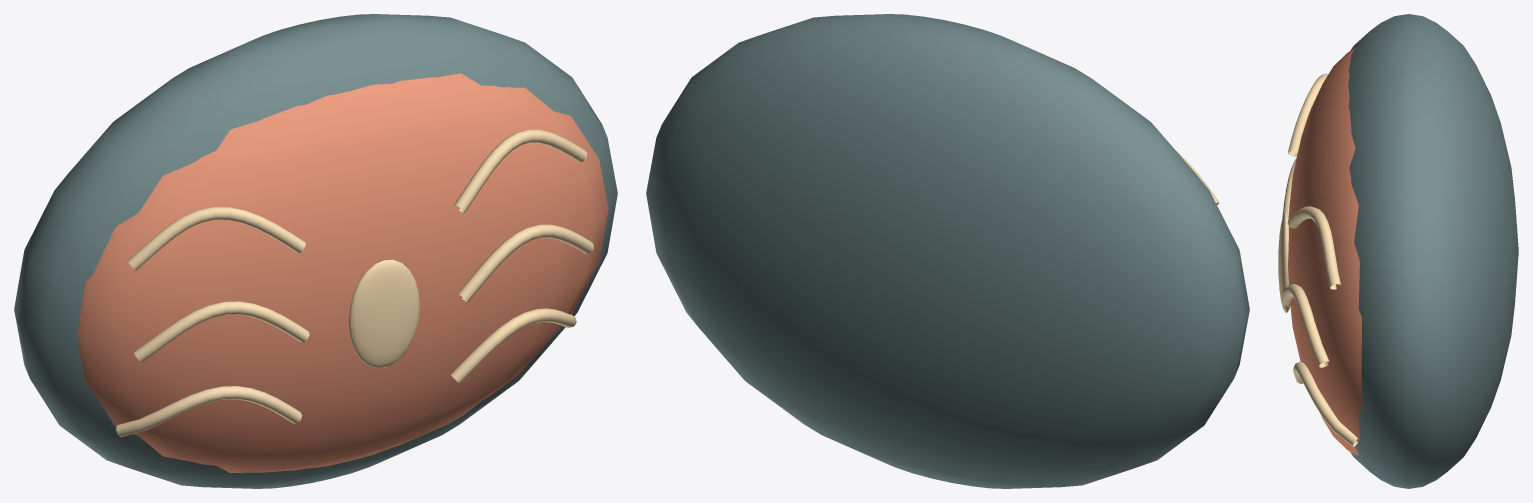
The model's file is steak.glb.
3 renders of one model, left to right at view 1: azimuth 30°, elevation 25°; view 2: azimuth 150°, elevation 25°; view 3: azimuth 270°, elevation 25°, orthographic. The views are drawn at different scales.
Parts seen in each view (by area): view 1: Salmon face, Rounded fish steak skin, Steak bone, Cream marbling, Cream marbling.002, Cream marbling.001, Cream marbling.005, Cream marbling.004, Cream marbling.003; view 2: Rounded fish steak skin; view 3: Rounded fish steak skin, Salmon face, Cream marbling.005, Cream marbling.003, Cream marbling.004, Cream marbling.002, Steak bone, Cream marbling.001.
Boxes of the visible parts, <box> form: Salmon face: <box>77,73,608,472</box>; Rounded fish steak skin: <box>14,14,617,488</box>; Steak bone: <box>349,259,419,368</box>; Cream marbling: <box>116,386,302,437</box>; Cream marbling.002: <box>127,207,305,270</box>; Cream marbling.001: <box>134,301,309,362</box>; Cream marbling.005: <box>453,129,587,212</box>; Cream marbling.004: <box>458,224,593,302</box>; Cream marbling.003: <box>451,308,576,383</box>; Rounded fish steak skin: <box>646,14,1249,488</box>; Rounded fish steak skin: <box>1348,14,1518,488</box>; Salmon face: <box>1288,47,1361,455</box>; Cream marbling.005: <box>1287,206,1341,289</box>; Cream marbling.003: <box>1293,361,1358,446</box>; Cream marbling.004: <box>1281,284,1329,367</box>; Cream marbling.002: <box>1287,73,1328,156</box>; Steak bone: <box>1278,212,1290,312</box>; Cream marbling.001: <box>1282,158,1296,217</box>.
Size of the model in its own units: 0.15 by 0.108 by 0.059.
